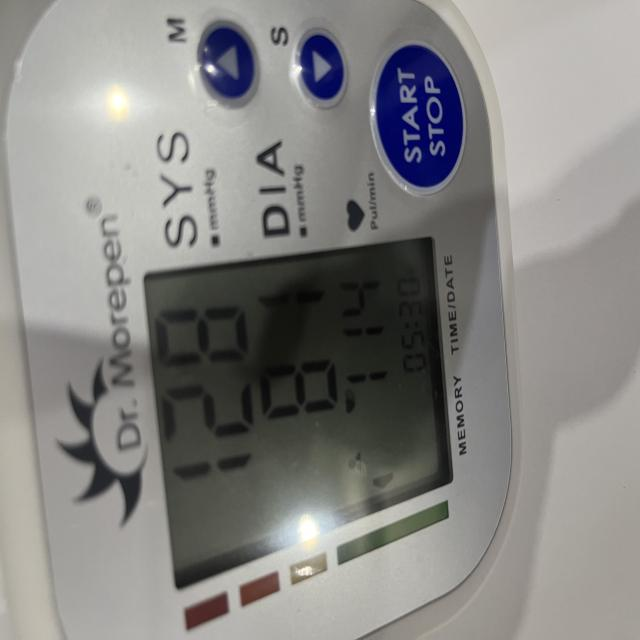bp: (0, 0, 519, 640)
